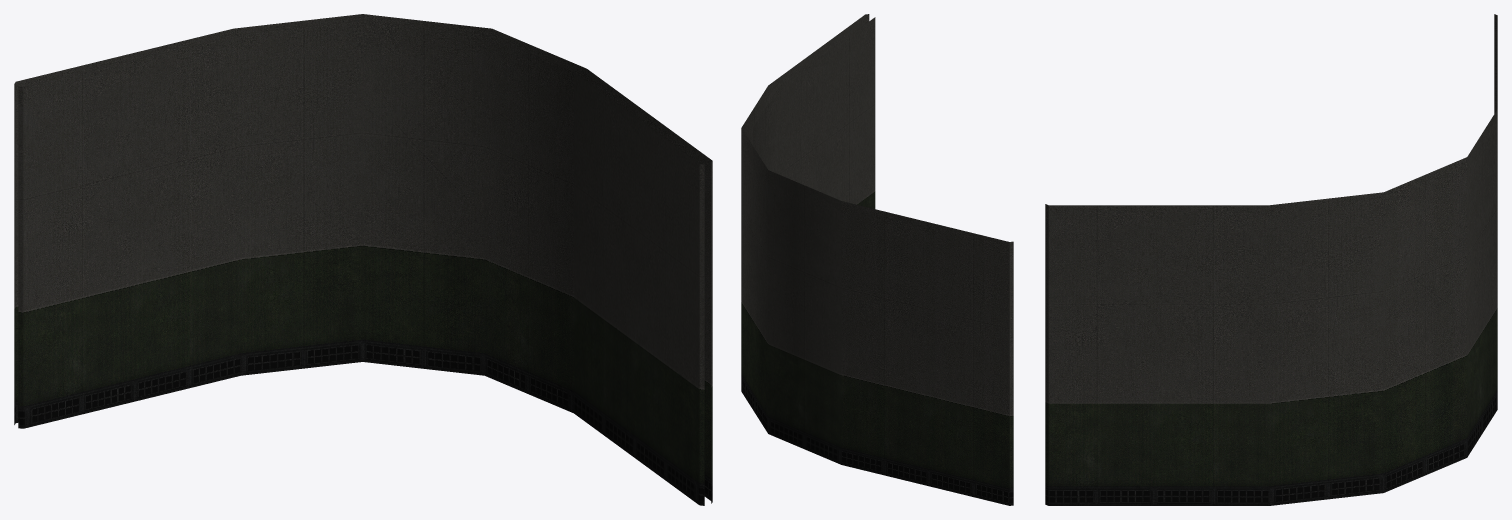
Rendered from wall_1_round.glb.
3 views of the same model, side by side, from view 1: azimuth 30°, elevation 25°; view 2: azimuth 150°, elevation 25°; view 3: azimuth 270°, elevation 25° (orthographic). The views are drawn at different scales.
Visible parts, largest first — view 1: wall_1_round; view 2: wall_1_round; view 3: wall_1_round.
Part boxes in pixels (bbox=[...]): wall_1_round: bbox=[14, 14, 712, 505]; wall_1_round: bbox=[741, 14, 1013, 505]; wall_1_round: bbox=[1045, 14, 1497, 505].
Size of the model in its own units: 4.09 by 3 by 4.09.
1 material, 1 textured.
